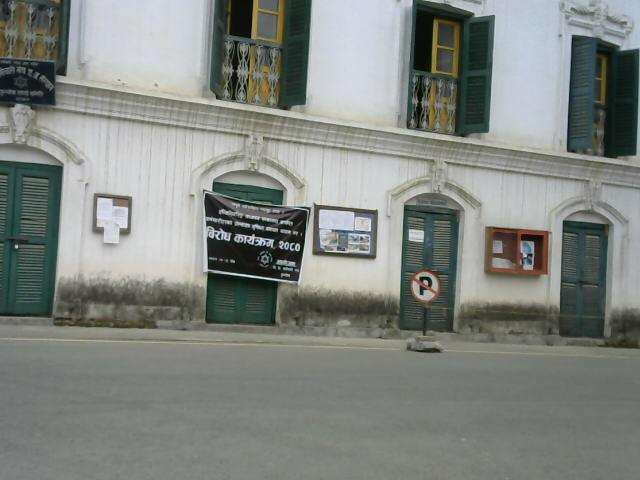Building: (0, 0, 404, 349), (461, 4, 640, 358)
Road: (14, 332, 640, 480)
Traffic sign: (407, 269, 463, 356)
